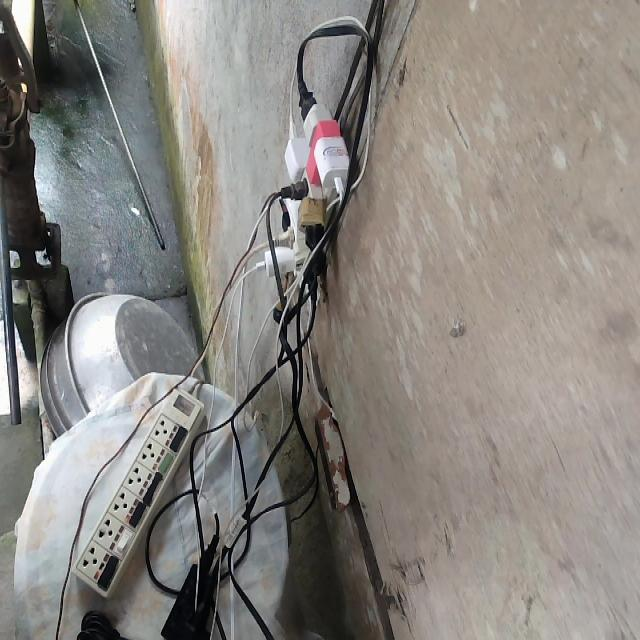-: (229, 46, 391, 306)
